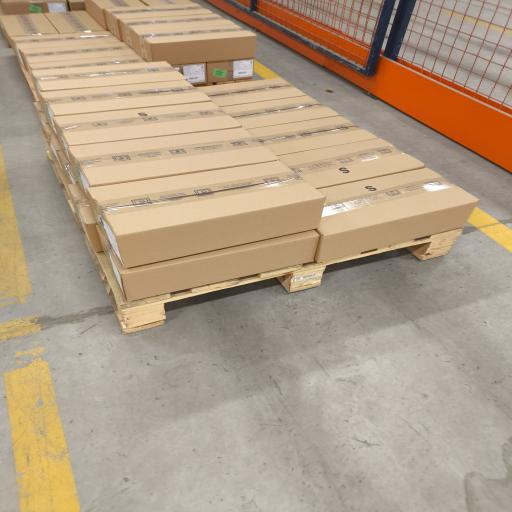pallet: (48, 151, 462, 333), (21, 66, 39, 101), (195, 78, 253, 87)
